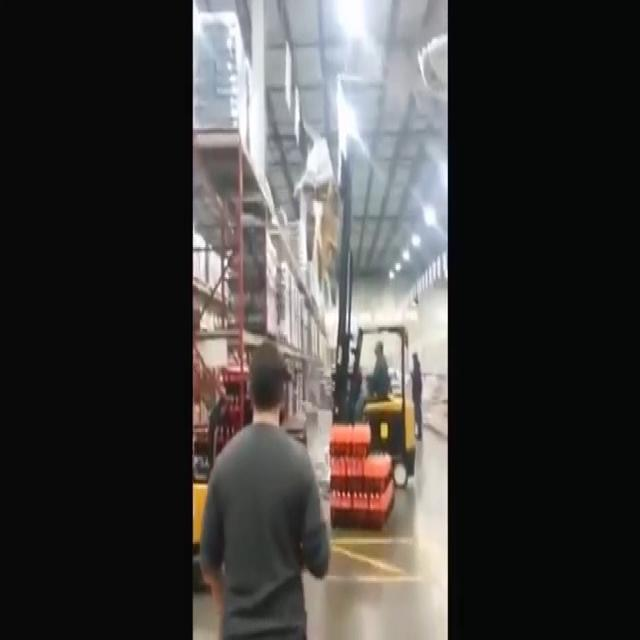Chariot elevateur: (331, 308, 420, 498)
